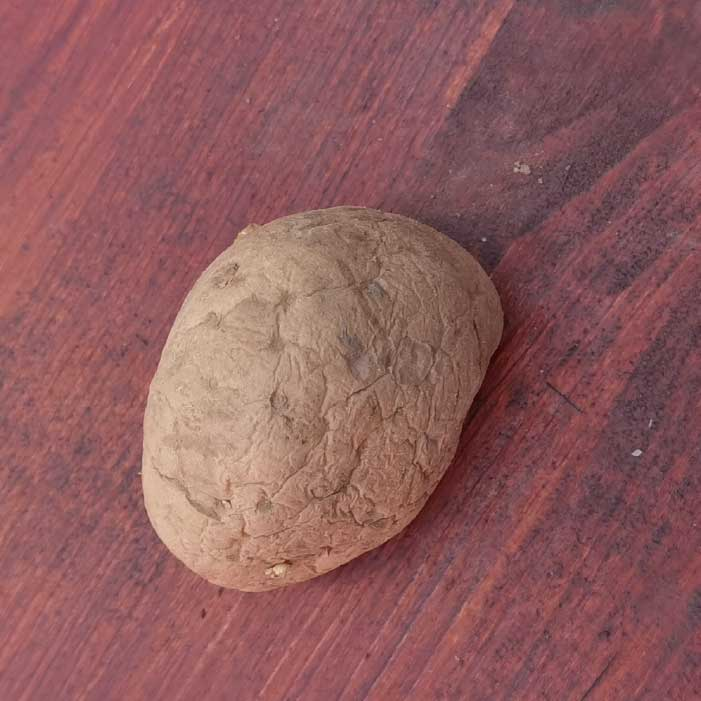Kartoffel: (142, 205, 504, 594)
